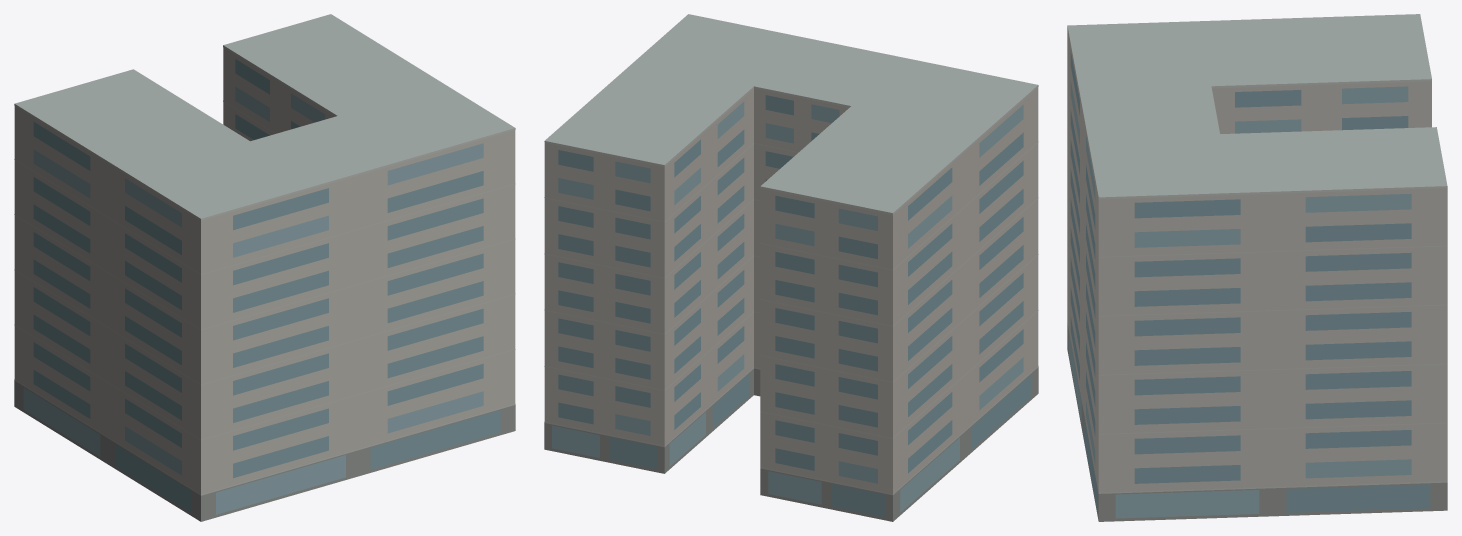
File: residential-df5721ed-8151-490e-b187-01f770263088.glb
3 renders of one model, left to right at view 1: azimuth 30°, elevation 25°; view 2: azimuth 150°, elevation 25°; view 3: azimuth 270°, elevation 25°, orthographic. The views are drawn at different scales.
Visible parts, largest first — view 1: residential-df5721ed-8151-490e-b187-01f770263088.tmp; view 2: residential-df5721ed-8151-490e-b187-01f770263088.tmp; view 3: residential-df5721ed-8151-490e-b187-01f770263088.tmp.
Part boxes in pixels (box(x1,y1,x2,y2)): residential-df5721ed-8151-490e-b187-01f770263088.tmp: box(14, 14, 515, 521); residential-df5721ed-8151-490e-b187-01f770263088.tmp: box(544, 14, 1038, 521); residential-df5721ed-8151-490e-b187-01f770263088.tmp: box(1067, 14, 1447, 521).
Size of the model in its own units: 44.86 by 37 by 39.29.
